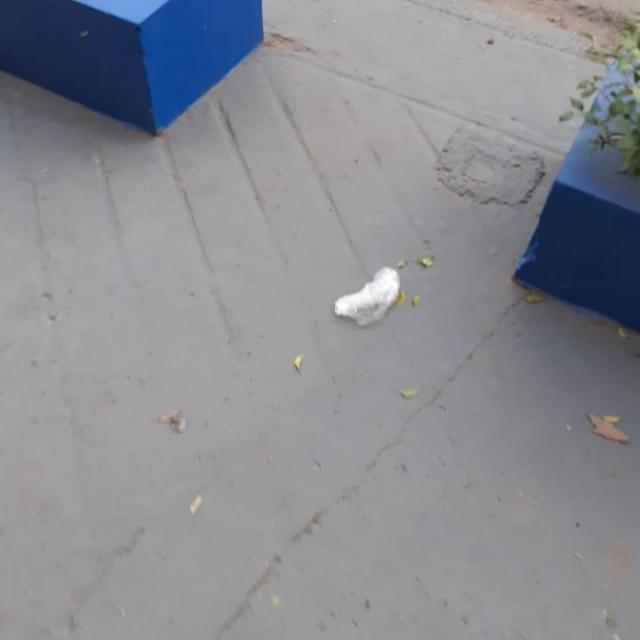litter: (335, 268, 399, 328)
